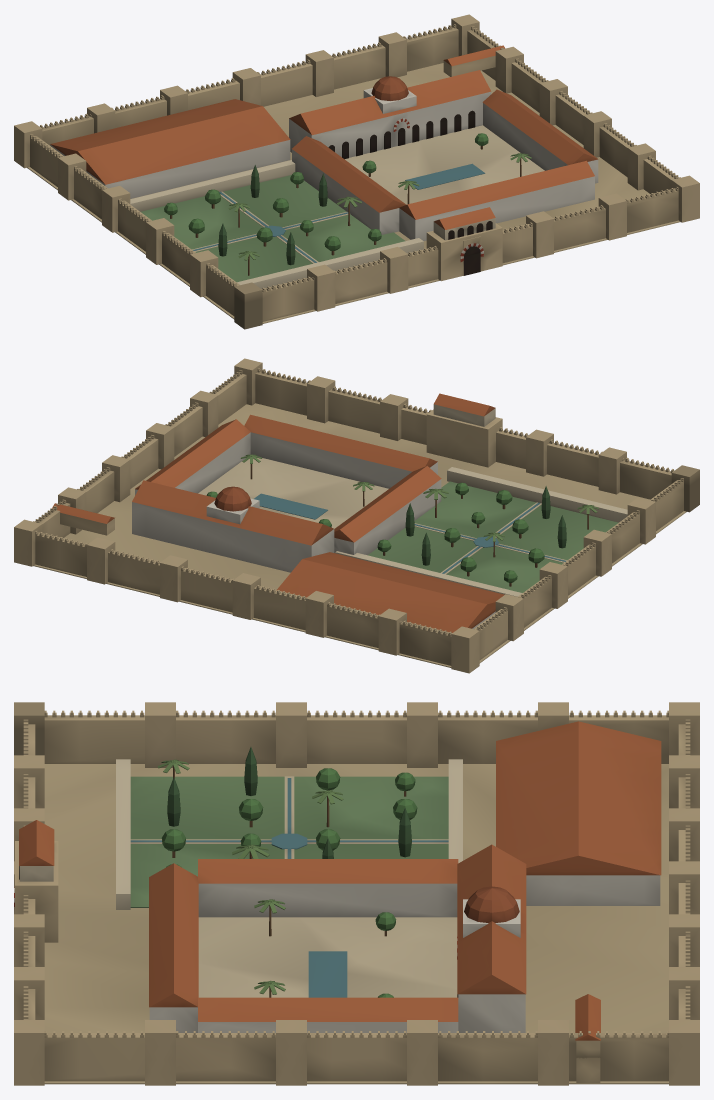
Rendered from umayyad-alcazar.glb.
3 renders of one model, top to bottom at view 1: azimuth 30°, elevation 25°; view 2: azimuth 150°, elevation 25°; view 3: azimuth 270°, elevation 25°, orthographic. The views are drawn at different scales.
Parts seen in each view (by area): view 1: p1_halls, p0_walls, p2_domes; view 2: p1_halls, p0_walls, p2_domes; view 3: p0_walls, p1_halls, p2_domes.
Boxes of the visible parts, x1,y1,x2,y2 form: p1_halls: (50,70,598,288); p0_walls: (14,14,699,329); p2_domes: (363,45,505,113); p1_halls: (132,393,627,632); p0_walls: (14,358,699,673); p2_domes: (52,486,259,535); p0_walls: (14,702,699,1085); p1_halls: (14,721,661,1032); p2_domes: (463,886,600,1082).
Size of the model in its own units: 162 by 20.7 by 142.
